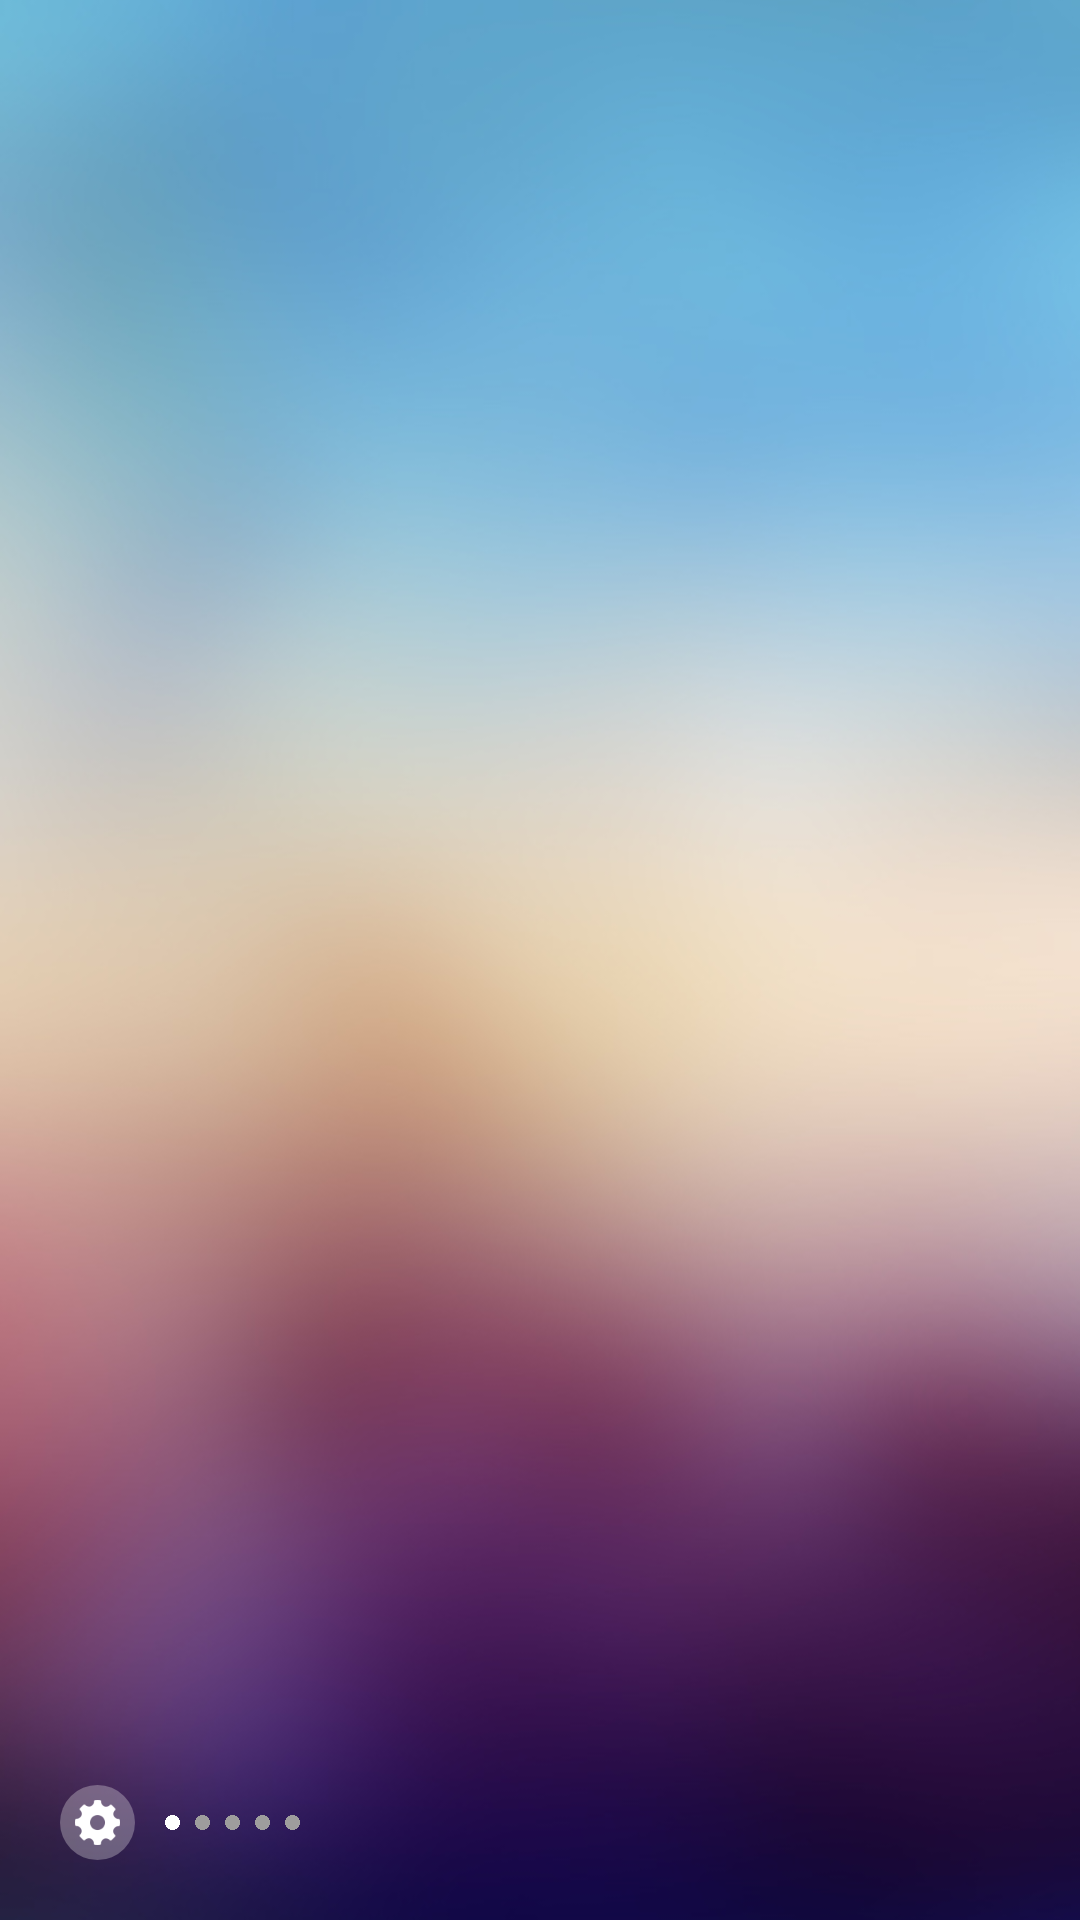

Locate icon controls on the screen. Image size 1080 × 1920, boxes as (x1, y1, x2, y2).
setting: (75, 1800, 120, 1845)
